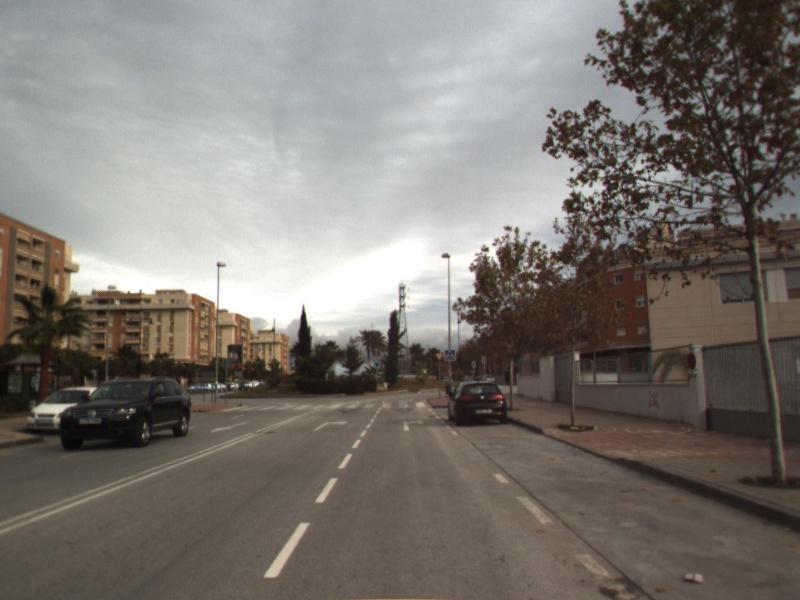RIGHT: (311, 418, 350, 433), (401, 416, 427, 433)
